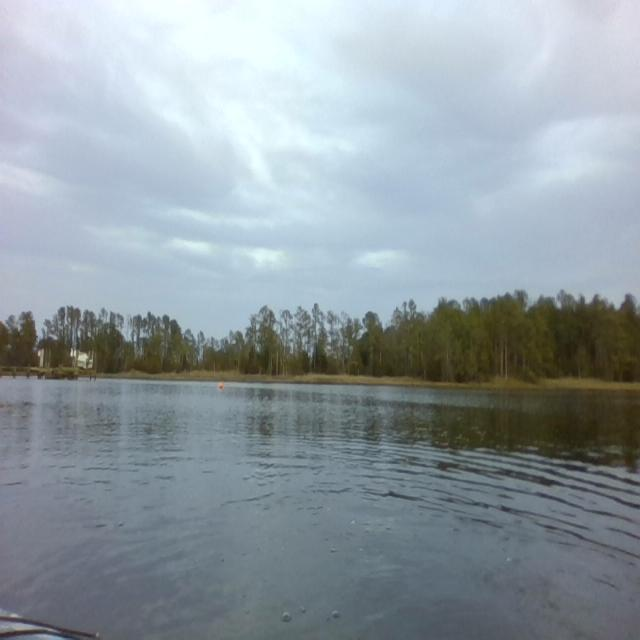Buoy: (218, 381, 224, 392)
